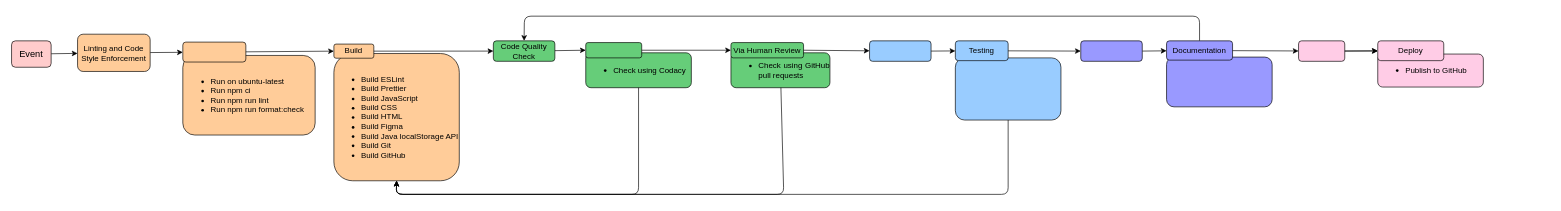
Some shapes in this 1561 by 211 pixel diagram are drawn without their labels. Here are the shapes that lost their labels. From the top down, the centre of each, then its label:
At pixel 214 51: "Run".
At pixel 613 50: "Via Tool".
At pixel 900 50: "Unit Testing".
At pixel 1111 50: "Documentation Generation".
At pixel 1321 50: "Publish".
At pixel 1008 88: "Build Jest Set up Node.js Run npm install Run npm test".
At pixel 1219 81: "Build JSDocs Run npm install Run npm run docs".
